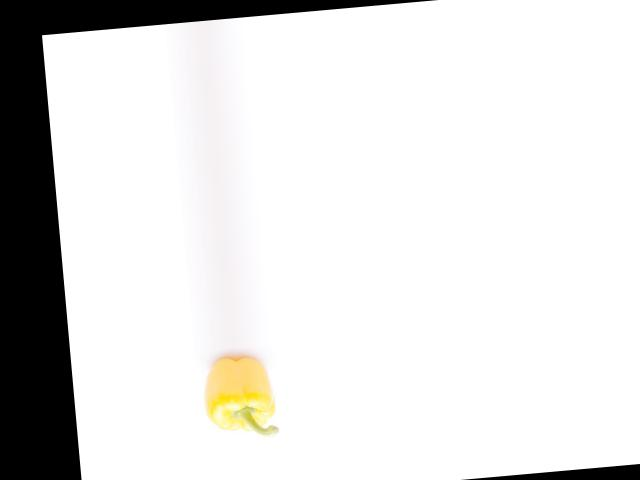bell_pepper: (194, 351, 281, 438)
